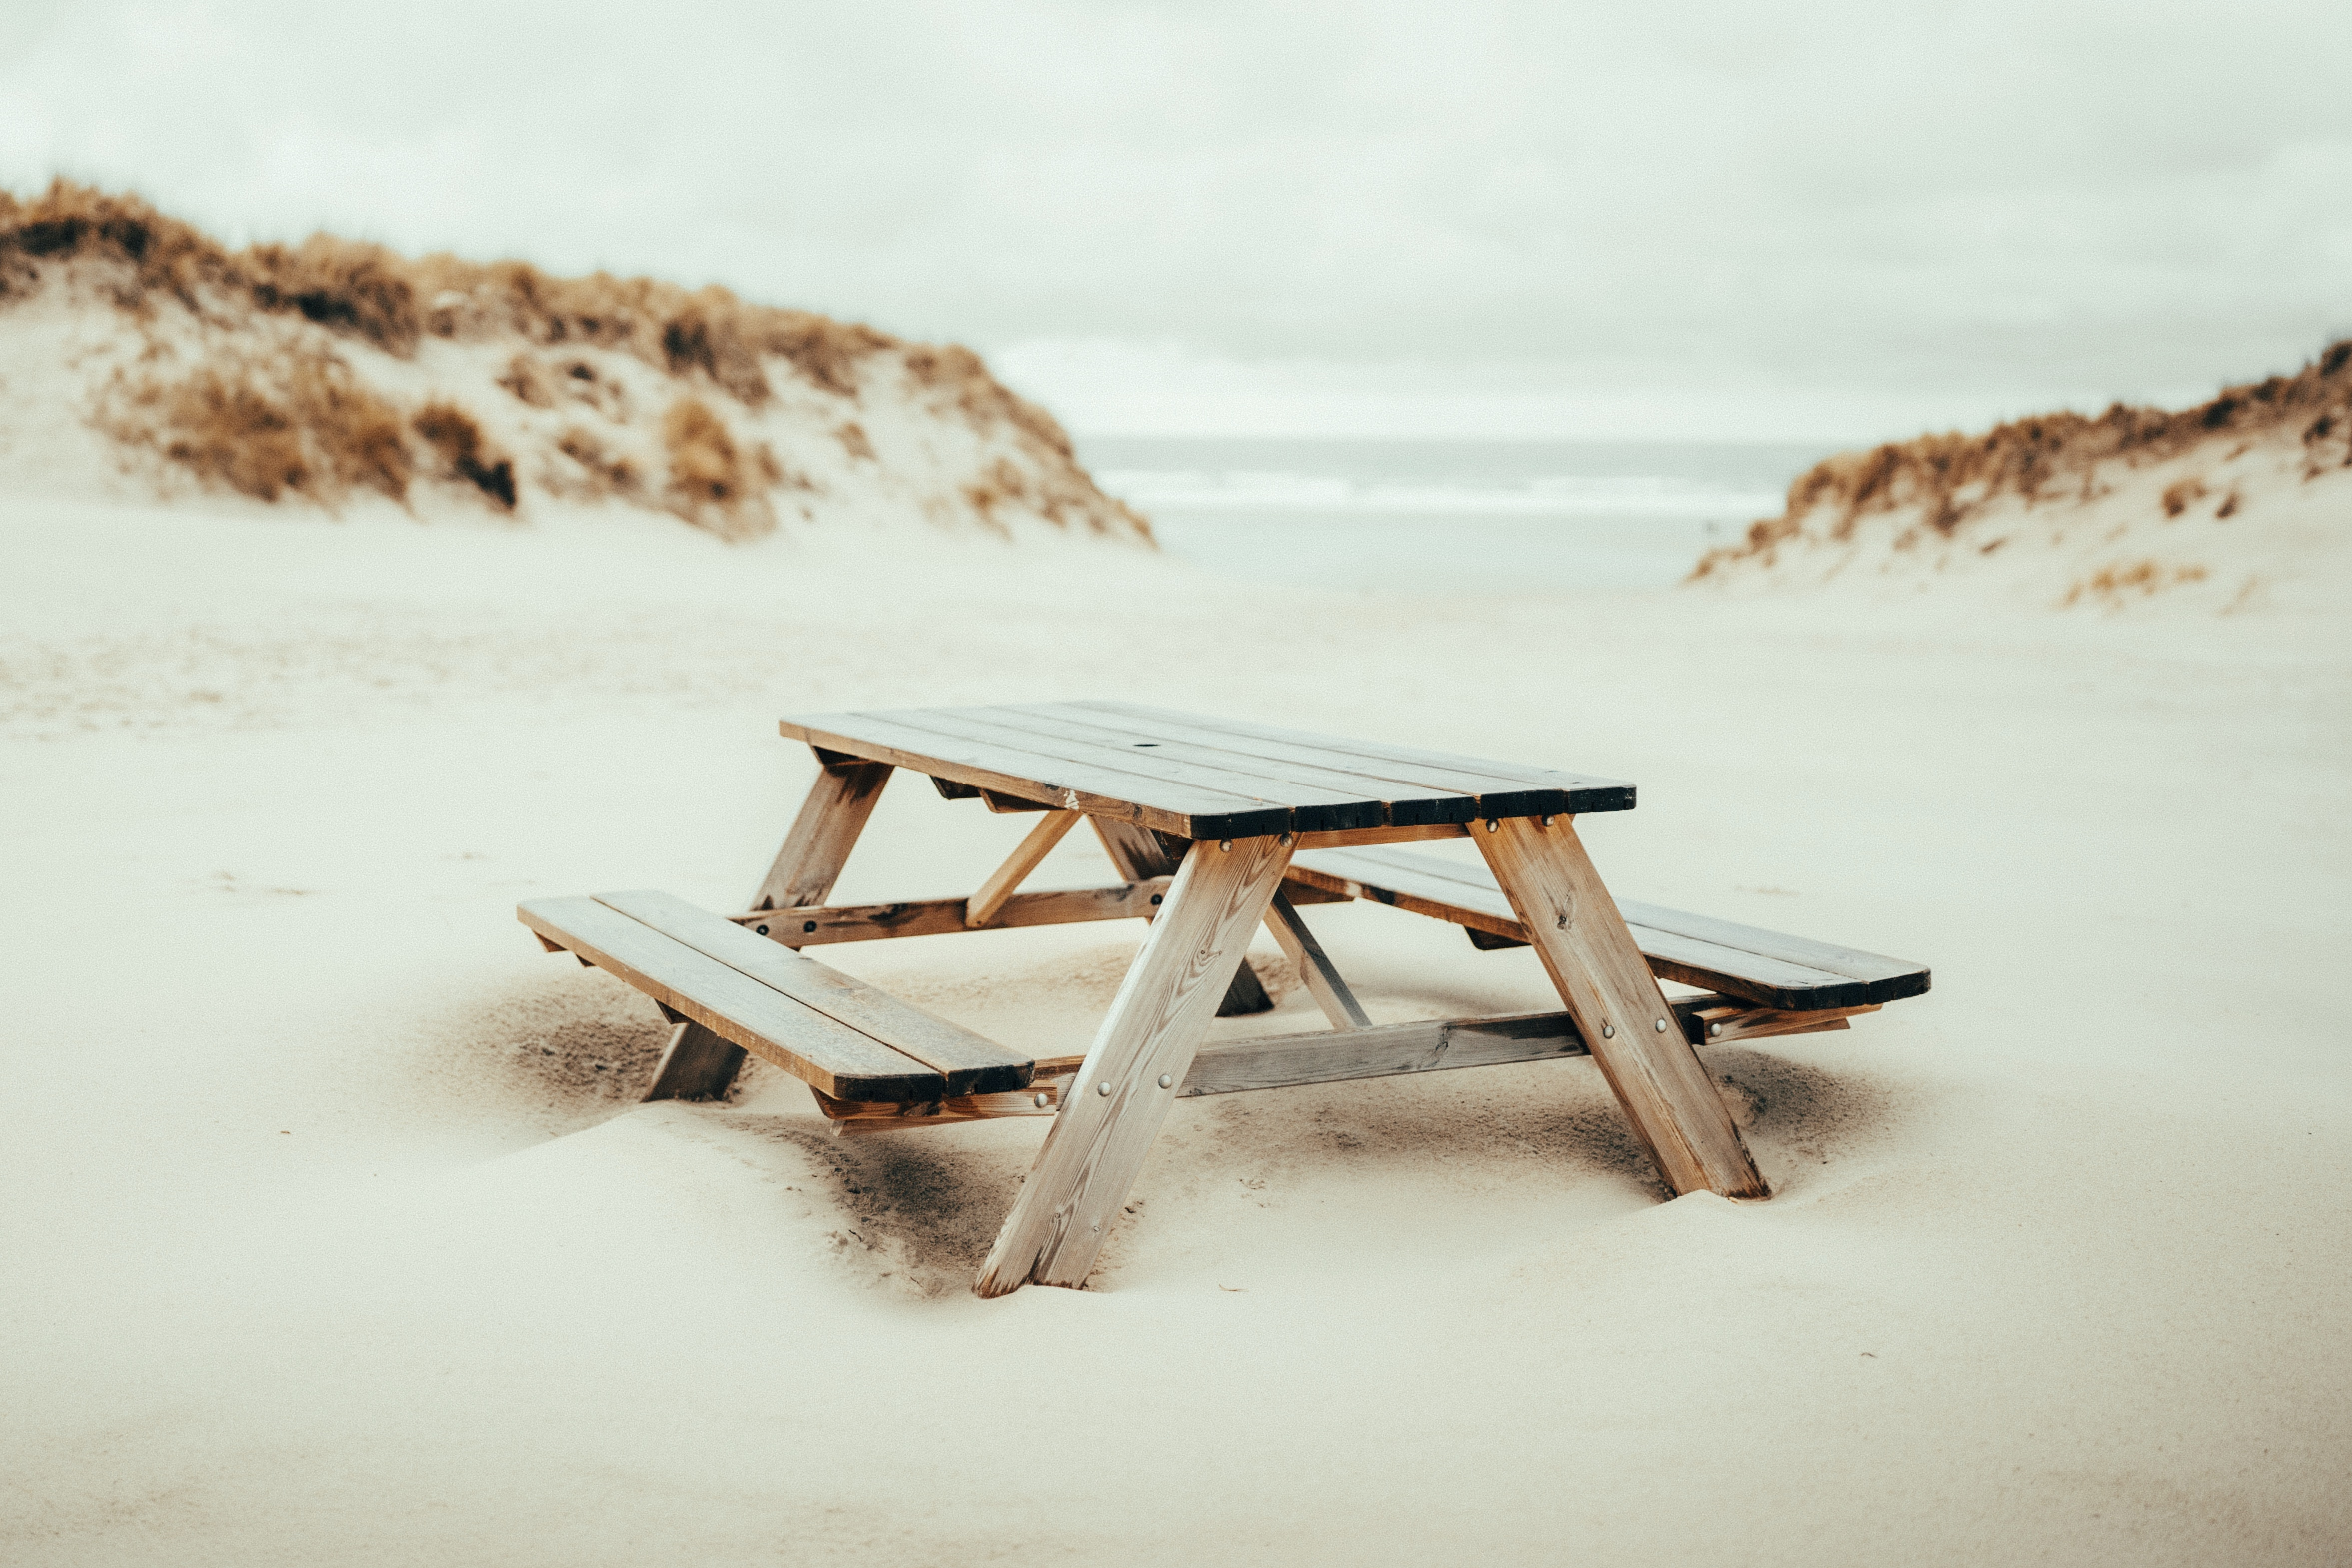obstacle: (490, 618, 2019, 1398)
